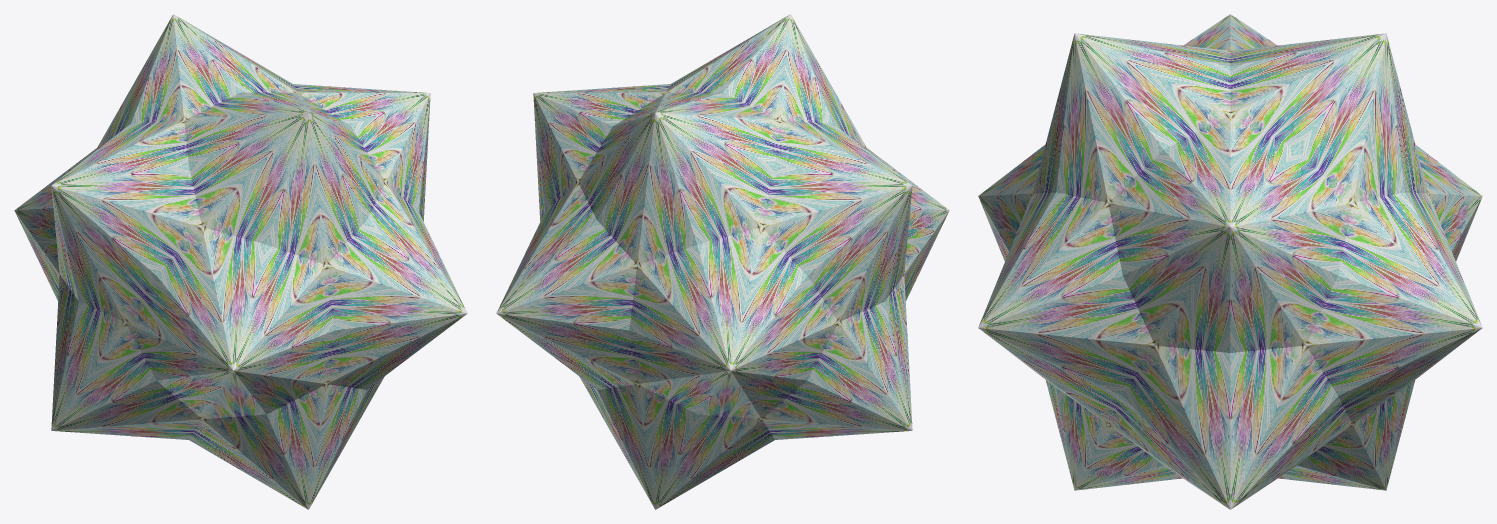
File: SmallDodecacronicHexecontahedron8.obj
3 views of the same model, side by side, from view 1: azimuth 30°, elevation 25°; view 2: azimuth 150°, elevation 25°; view 3: azimuth 270°, elevation 25° (orthographic). The views are drawn at different scales.
Bounding box in the file's own units: 5.24 × 5.24 × 5.24.
Materials: 1 (1 with a texture image).
